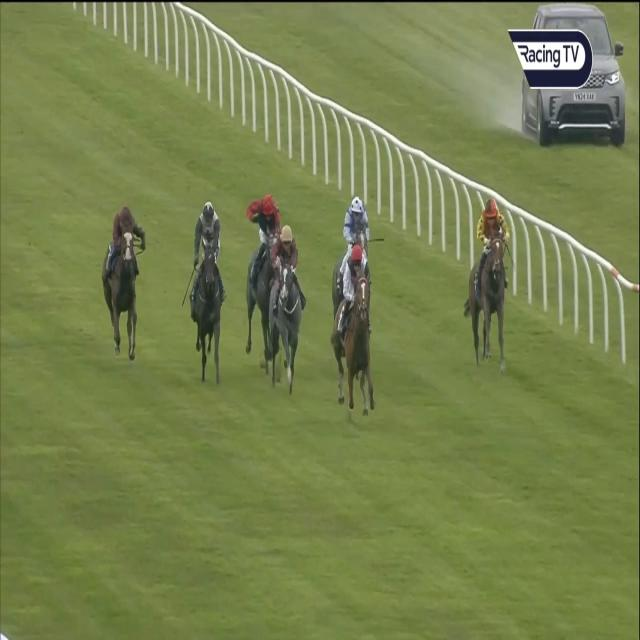horses-racing: (468, 197, 516, 371), (330, 254, 380, 420), (99, 206, 148, 354), (188, 204, 228, 362), (333, 200, 388, 314), (245, 186, 282, 334), (276, 220, 300, 388)
